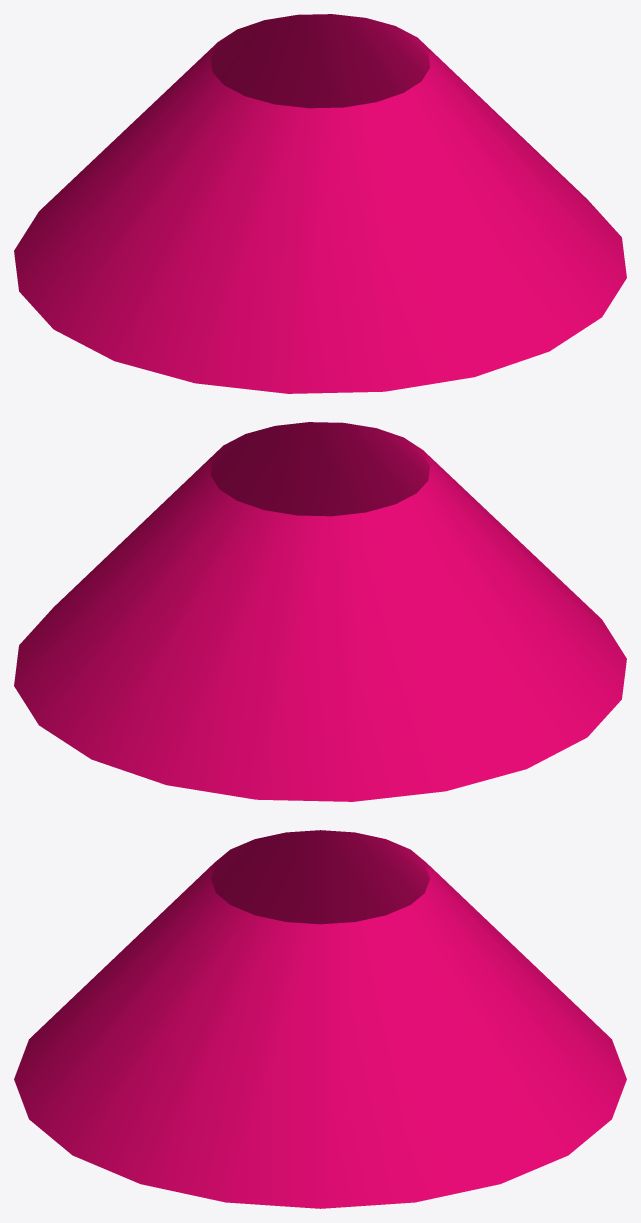
The model's file is Lampshade_02_AutoIllum.fbx.
The picture shows the model from 3 angles, top to bottom: view 1: azimuth 30°, elevation 25°; view 2: azimuth 150°, elevation 25°; view 3: azimuth 270°, elevation 25°; orthographic projection.
Parts seen in each view (by area): view 1: Lampshade_02_AutoIllum; view 2: Lampshade_02_AutoIllum; view 3: Lampshade_02_AutoIllum.
Boxes of the visible parts, x1,y1,x2,y2 form: Lampshade_02_AutoIllum: [14, 14, 626, 393]; Lampshade_02_AutoIllum: [14, 422, 626, 801]; Lampshade_02_AutoIllum: [14, 830, 626, 1208].
Bounding box in the file's own units: 72.84 × 26.5 × 72.84.
